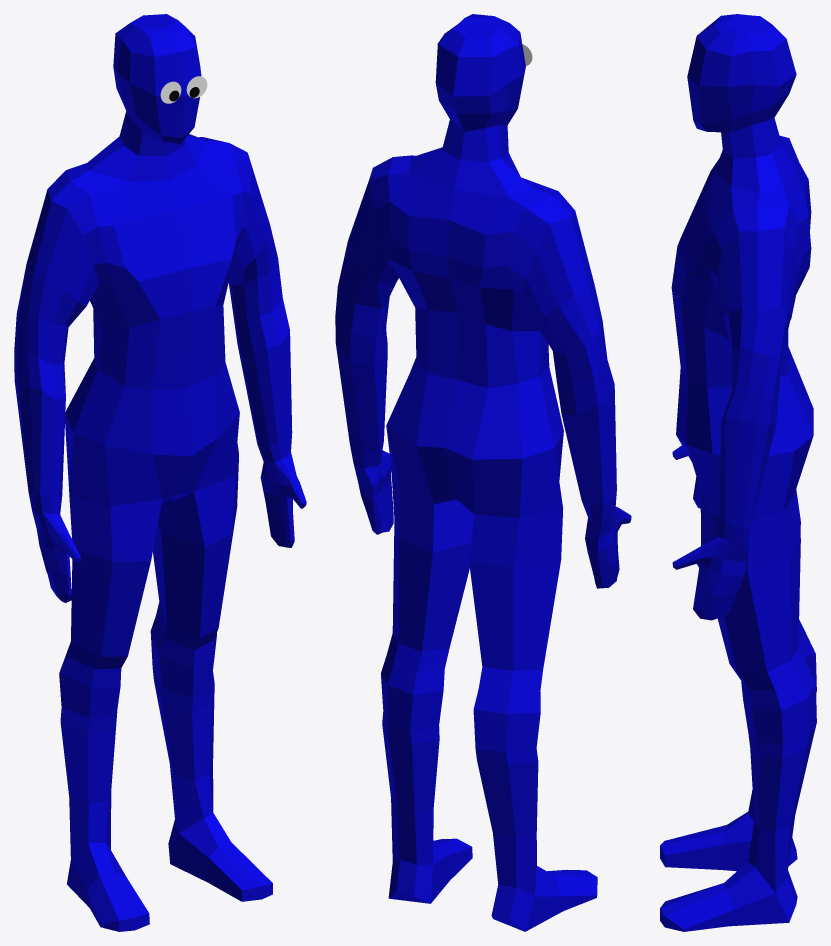
The model's file is TABS peasant.fbx.
3 renders of one model, left to right at view 1: azimuth 30°, elevation 25°; view 2: azimuth 150°, elevation 25°; view 3: azimuth 270°, elevation 25°, orthographic.
Visible parts, largest first — view 1: Circle.000; view 2: Circle.000; view 3: Circle.000.
Boxes of the visible parts, <box> form: Circle.000: <box>14,14,306,931</box>; Circle.000: <box>335,14,631,931</box>; Circle.000: <box>660,14,816,931</box>.
Size of the model in its own units: 205 by 643 by 105.
